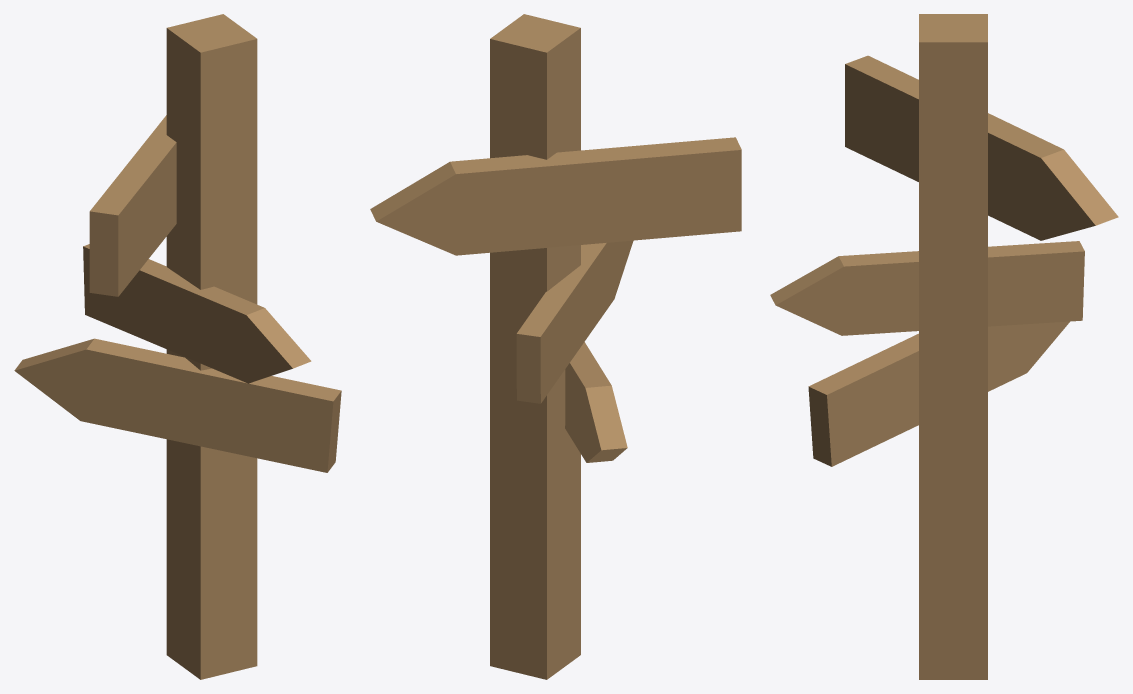
Rendered from RoadMap.fbx.
3 views of the same model, side by side, from view 1: azimuth 30°, elevation 25°; view 2: azimuth 150°, elevation 25°; view 3: azimuth 270°, elevation 25° (orthographic).
Visible parts, largest first — view 1: VerticalLP.006; view 2: VerticalLP.006; view 3: VerticalLP.006.
Boxes of the visible parts, left/top/right/bottom form: VerticalLP.006: left=14, top=14, right=341, bottom=679; VerticalLP.006: left=370, top=14, right=741, bottom=679; VerticalLP.006: left=770, top=14, right=1118, bottom=679.
Size of the model in its own units: 87.67 by 202 by 100.
